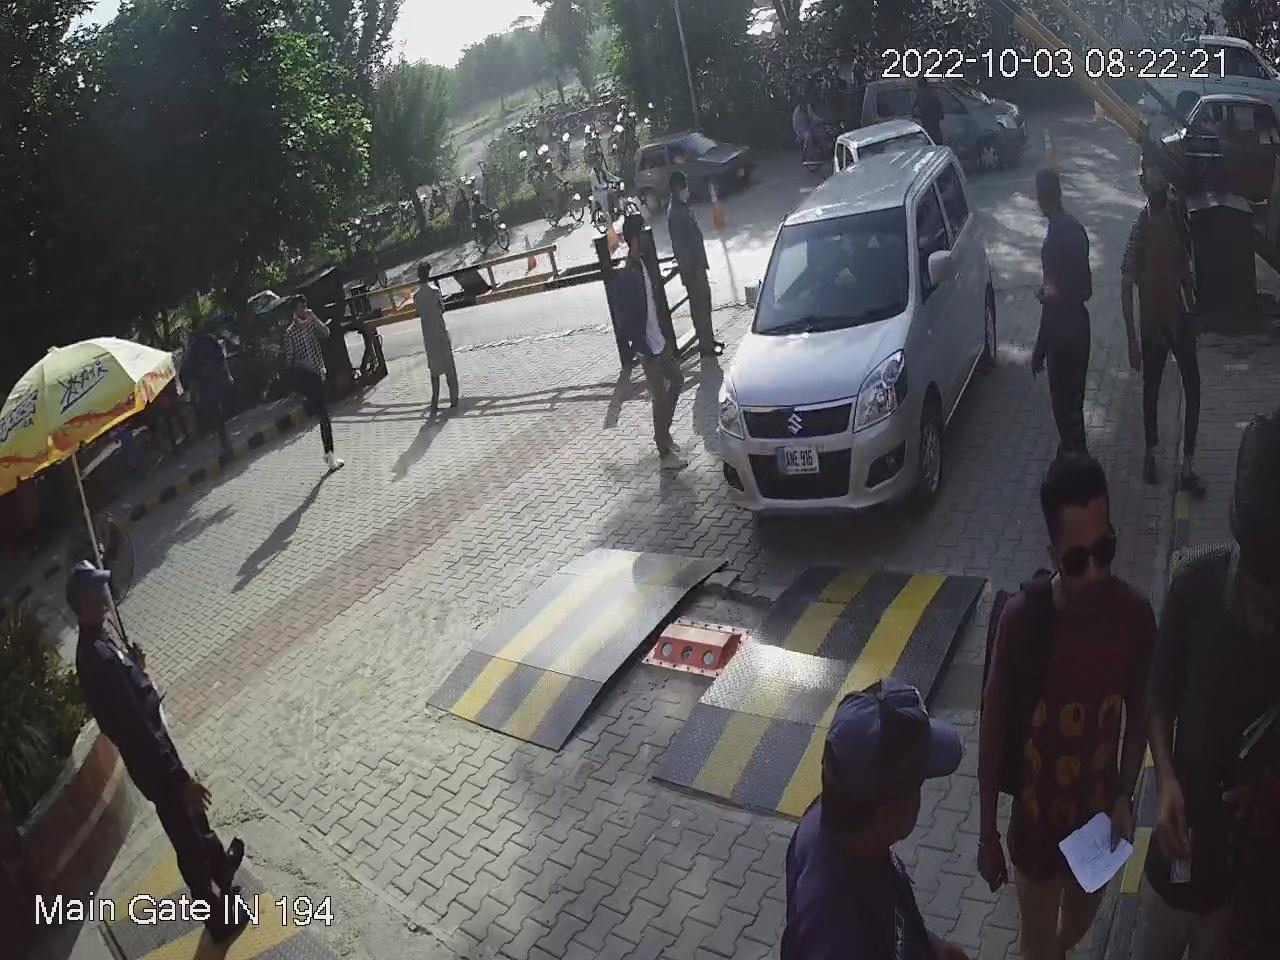windshield: (741, 193, 918, 340)
